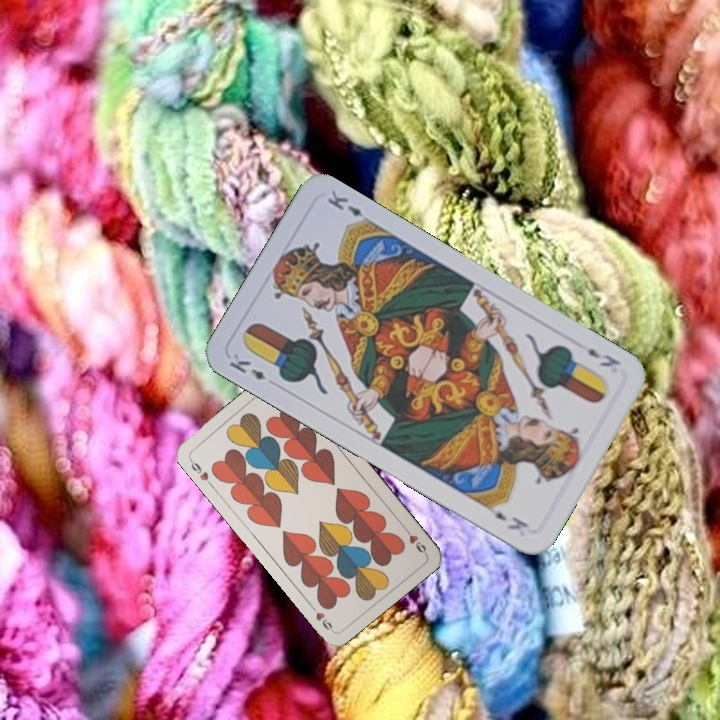EK: (225, 349, 269, 383), (583, 344, 623, 370)
H9: (399, 523, 429, 557), (185, 454, 211, 484)
